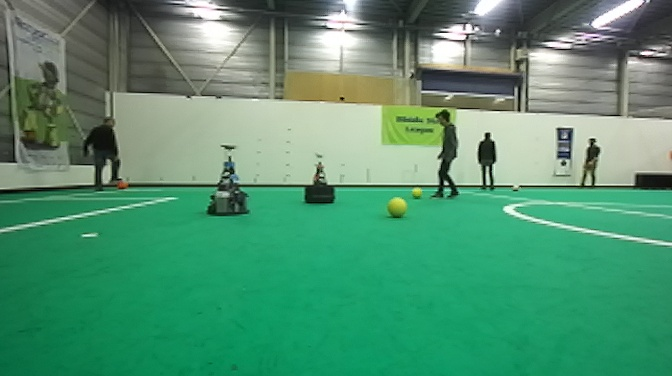ball: (386, 195, 407, 220), (117, 175, 130, 190), (410, 185, 422, 198), (510, 180, 520, 192)
human: (79, 116, 123, 194), (430, 108, 461, 200), (476, 131, 498, 190), (577, 139, 601, 190)
robot: (205, 143, 252, 217), (305, 154, 337, 205)
